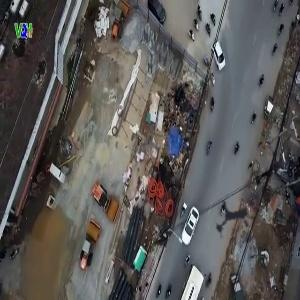drone: (197, 175, 282, 260)
